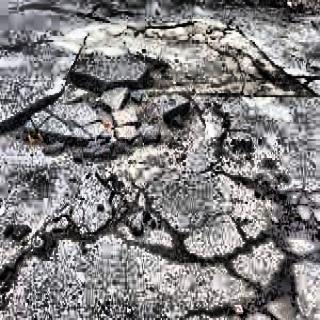pothole: (5, 57, 320, 320)
